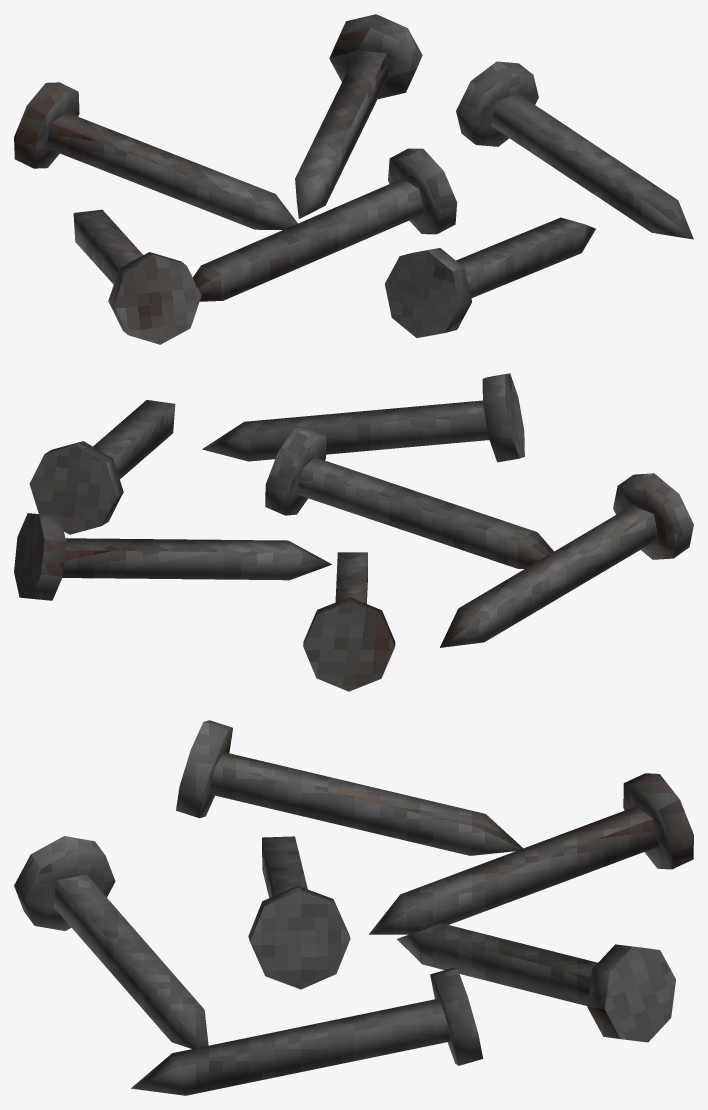
Rendered from nails_1.glb.
3 renders of one model, top to bottom at view 1: azimuth 30°, elevation 25°; view 2: azimuth 150°, elevation 25°; view 3: azimuth 270°, elevation 25°, orthographic. The views are drawn at different scales.
Parts seen in each view (by area): view 1: nails_1; view 2: nails_1; view 3: nails_1.
Boxes of the visible parts, x1=… form: nails_1: x1=14, y1=14, x2=693, y2=344; nails_1: x1=14, y1=373, x2=693, y2=691; nails_1: x1=14, y1=720, x2=693, y2=1095.
Bounding box in the file's own units: 0.1405 × 0.0211 × 0.1348.
1 material, 1 textured.
